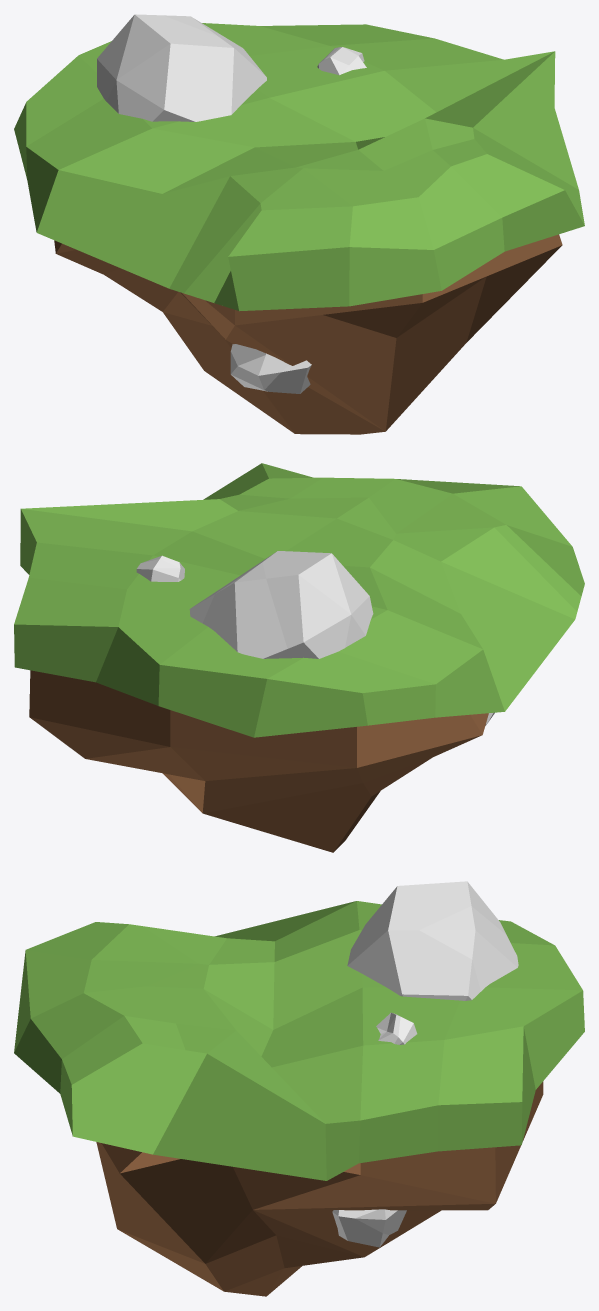
Rendered from plataforma 004 - com pedras.fbx.
3 renders of one model, top to bottom at view 1: azimuth 30°, elevation 25°; view 2: azimuth 150°, elevation 25°; view 3: azimuth 270°, elevation 25°, orthographic.
Parts seen in each view (by area): view 1: topo.003, base.003, pedra1.001, pedra2.001, pedra4; view 2: topo.003, base.003, pedra1.001, pedra4; view 3: topo.003, base.003, pedra1.001, pedra3.001, pedra4.
Part boxes in pixels (x1,y1,x2,y2): topo.003: (14, 23, 584, 311); base.003: (54, 234, 562, 434); pedra1.001: (97, 14, 266, 121); pedra2.001: (230, 344, 311, 393); pedra4: (317, 47, 366, 75); topo.003: (14, 463, 584, 737); base.003: (29, 670, 488, 852); pedra1.001: (189, 551, 373, 658); pedra4: (136, 555, 184, 581); topo.003: (14, 901, 584, 1180); base.003: (96, 1081, 543, 1296); pedra1.001: (347, 881, 518, 1000); pedra3.001: (332, 1209, 406, 1247); pedra4: (376, 1012, 417, 1044).
Bounding box in the file's own units: 307 × 212 × 300.
